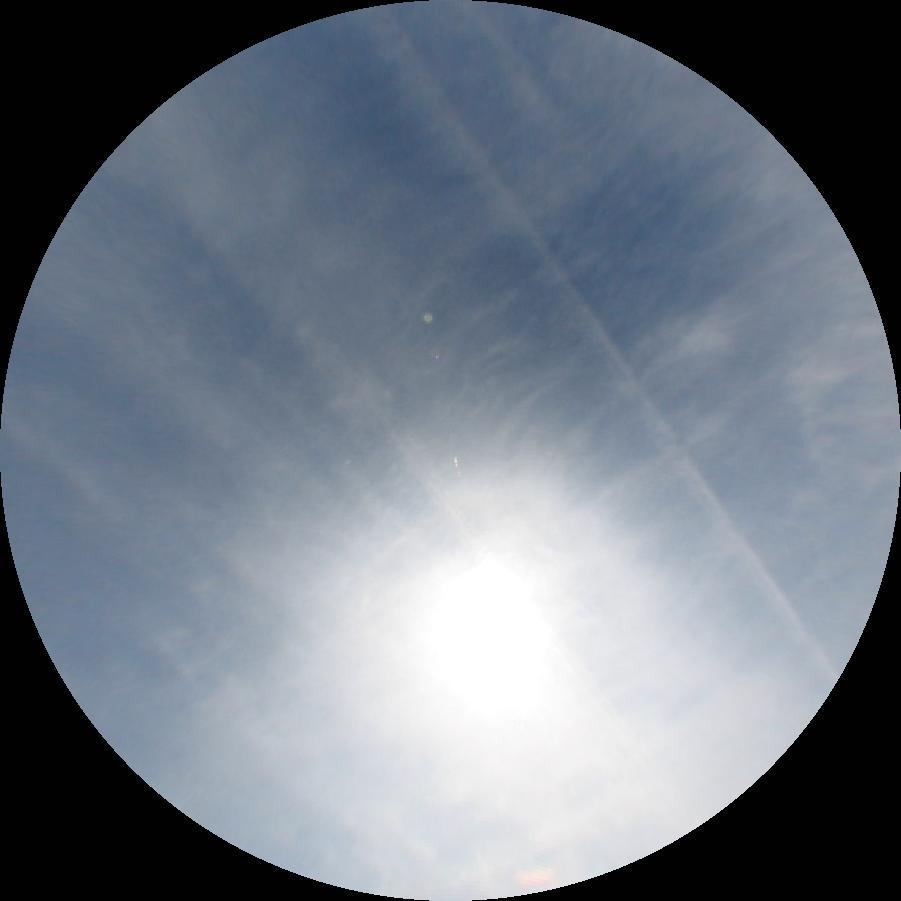sun: (398, 548, 582, 739)
